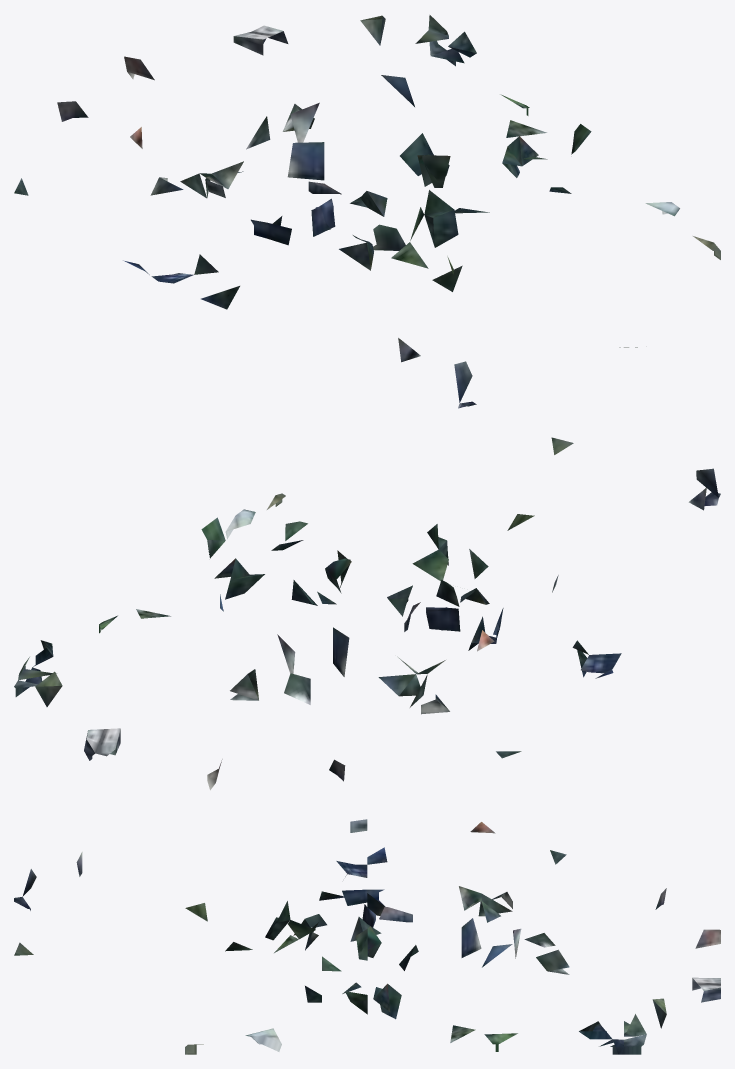
The picture shows the model from 3 angles, top to bottom: view 1: azimuth 30°, elevation 25°; view 2: azimuth 150°, elevation 25°; view 3: azimuth 270°, elevation 25°; orthographic projection. The views are drawn at different scales.
Parts seen in each view (by area): view 1: 304362727043704266_1; view 2: 304362727043704266_1; view 3: 304362727043704266_1.
Boxes of the visible parts, x1=… form: 304362727043704266_1: x1=14, y1=15, x2=720, y2=408; 304362727043704266_1: x1=14, y1=437, x2=720, y2=790; 304362727043704266_1: x1=14, y1=819, x2=720, y2=1054.
Size of the model in its own units: 96.98 by 20.34 by 153.
1 material, 1 textured.
